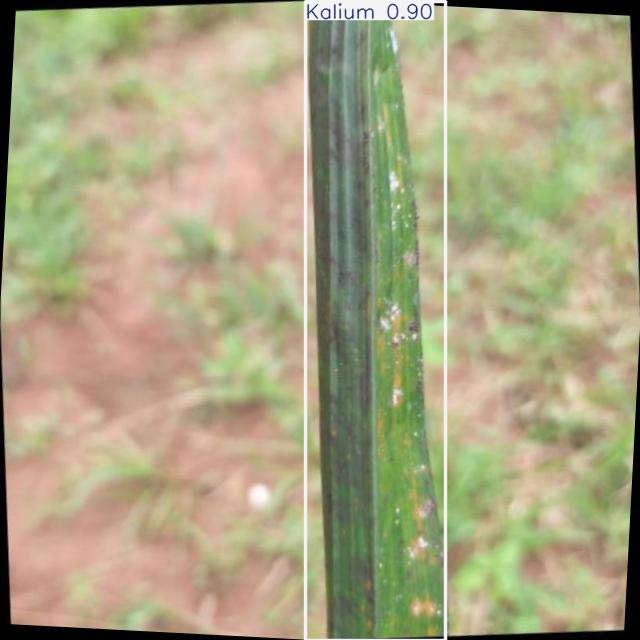Kalium: (306, 1, 445, 640)
